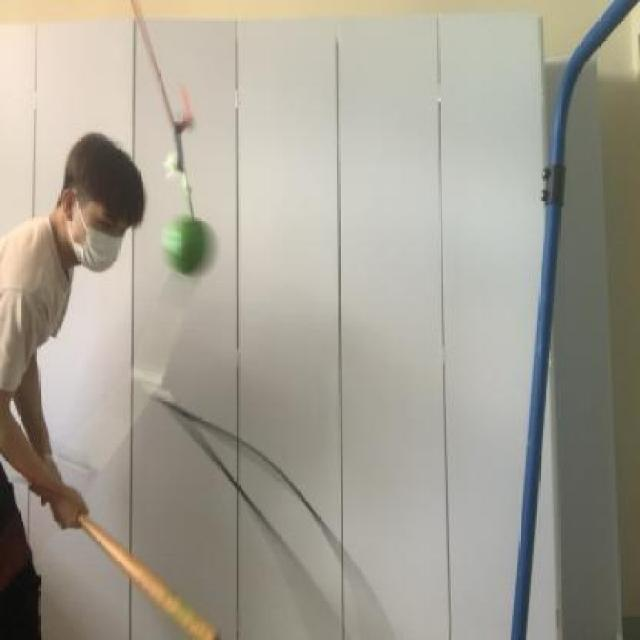baseball: (159, 208, 235, 286)
